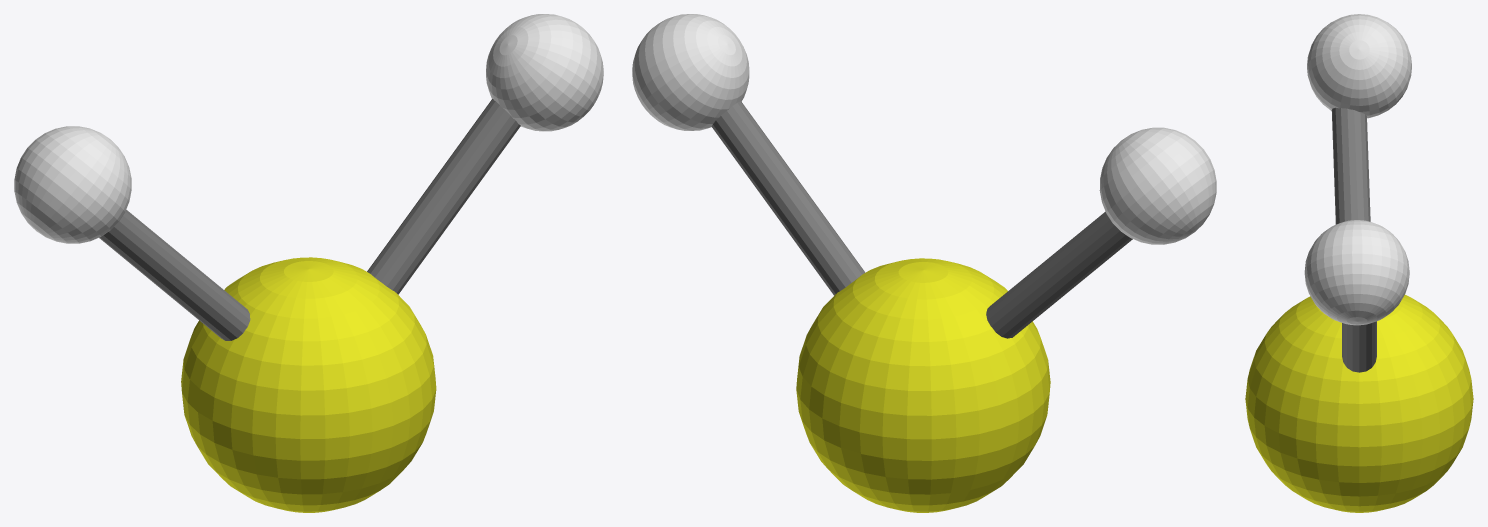
3 views of the same model, side by side, from view 1: azimuth 30°, elevation 25°; view 2: azimuth 150°, elevation 25°; view 3: azimuth 270°, elevation 25° (orthographic). The views are drawn at different scales.
Parts seen in each view (by area): view 1: Sphere, Sphere.002, Sphere.001, Cylinder, Cylinder.001; view 2: Sphere, Sphere.002, Sphere.001, Cylinder, Cylinder.001; view 3: Sphere, Sphere.001, Sphere.002, Cylinder.001, Cylinder.
Boxes of the visible parts, <box> form: Sphere: <box>181,257,436,512</box>; Sphere.002: <box>14,126,131,243</box>; Sphere.001: <box>486,14,603,131</box>; Cylinder: <box>367,99,520,294</box>; Cylinder.001: <box>99,209,250,340</box>; Sphere: <box>796,258,1050,512</box>; Sphere.002: <box>1099,127,1216,244</box>; Sphere.001: <box>632,14,749,130</box>; Cylinder: <box>711,101,865,295</box>; Cylinder.001: <box>986,211,1132,338</box>; Sphere: <box>1245,294,1473,512</box>; Sphere.001: <box>1304,220,1409,325</box>; Sphere.002: <box>1307,14,1411,118</box>; Cylinder.001: <box>1331,107,1370,224</box>; Cylinder: <box>1342,321,1376,372</box>.
Size of the model in its own units: 3.36 by 2.39 by 1.3.
